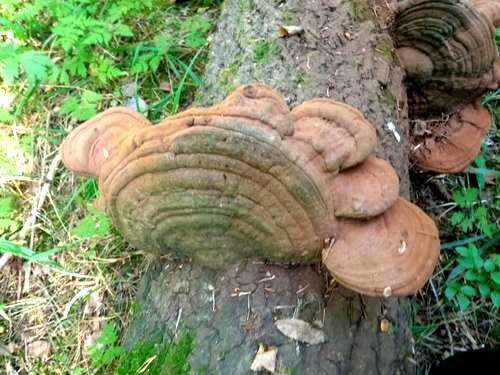Ganoderma - Fruit Body: (65, 81, 332, 260), (383, 0, 500, 103), (337, 200, 439, 298), (412, 108, 498, 172), (334, 154, 405, 198)
